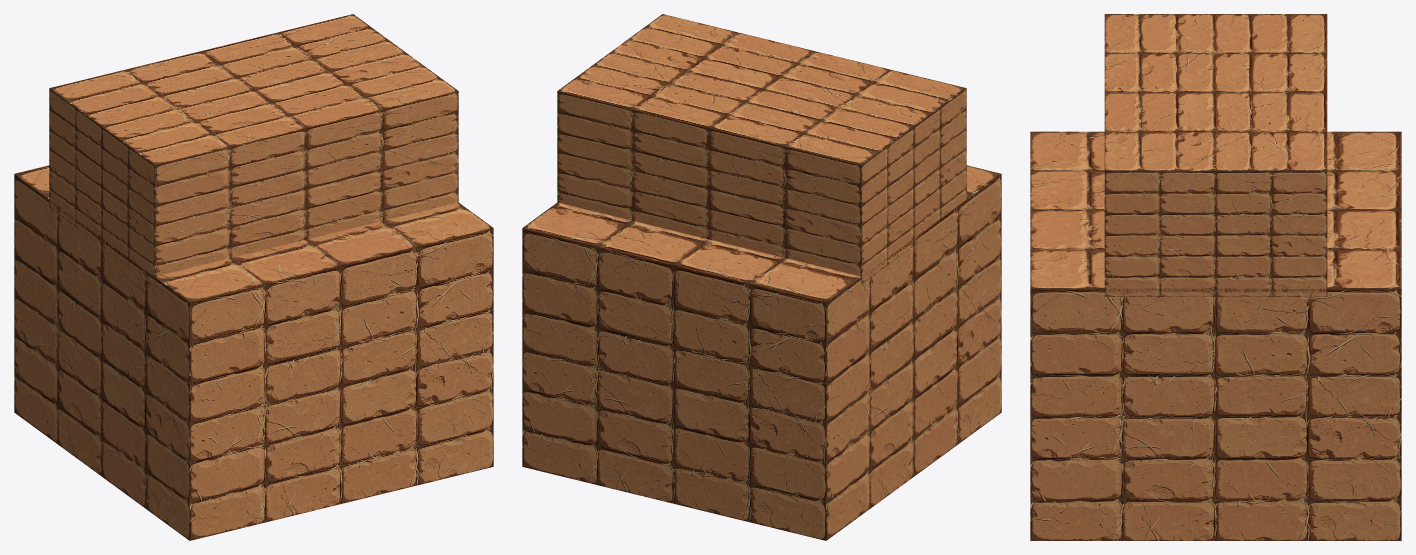
Rendered from mushroom_farm.obj.
3 renders of one model, left to right at view 1: azimuth 30°, elevation 25°; view 2: azimuth 150°, elevation 25°; view 3: azimuth 270°, elevation 25°, orthographic. The views are drawn at different scales.
Visible parts, largest first — view 1: building; view 2: building; view 3: building.
Boxes of the visible parts, <box> form: building: <box>14,14,493,540</box>; building: <box>522,14,1001,540</box>; building: <box>1030,14,1401,540</box>.
Size of the model in its own units: 2 by 2.2 by 2.
